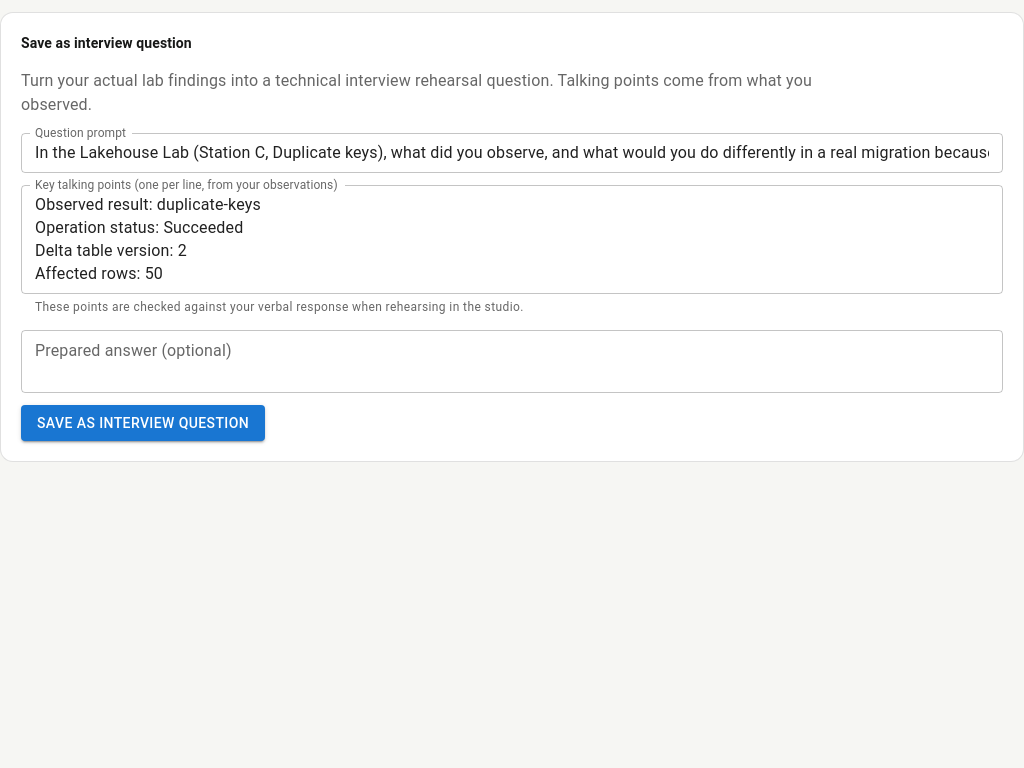
it: SaveAsInterviewQuestion › re-saving updates the question and shows update confirmation
Click the button "Save as interview question" at coordinates (143, 423), box [21,405,265,441]
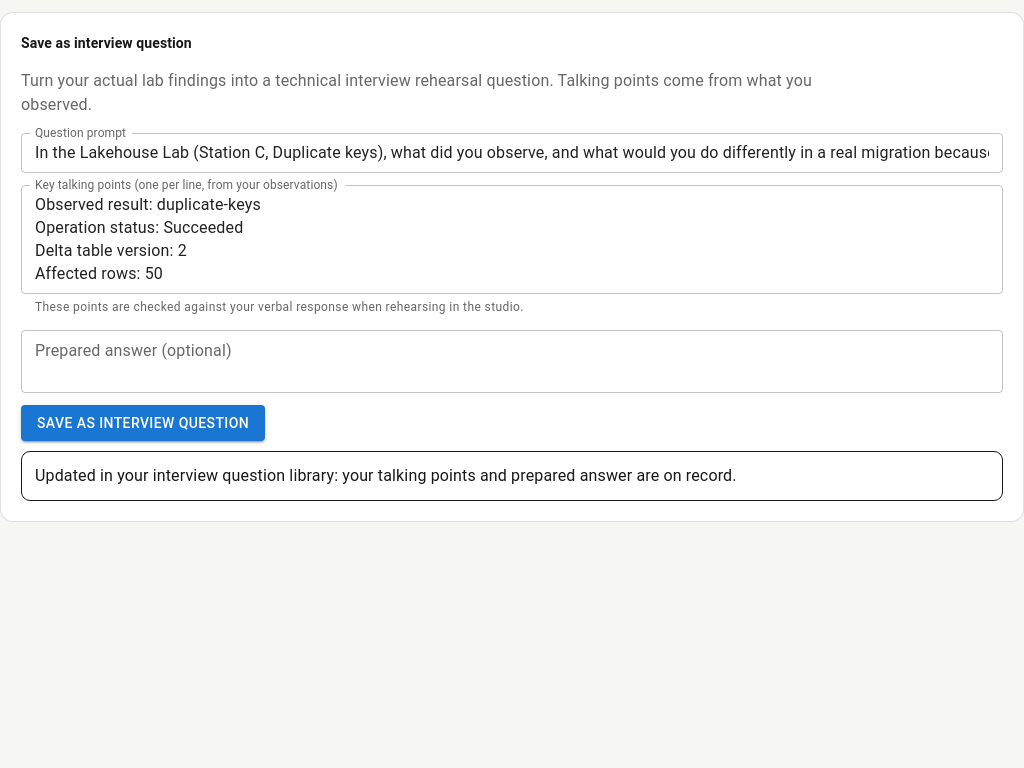
Check: the text "Updated in your interview question library" is shown, box [35,466,737,485]
